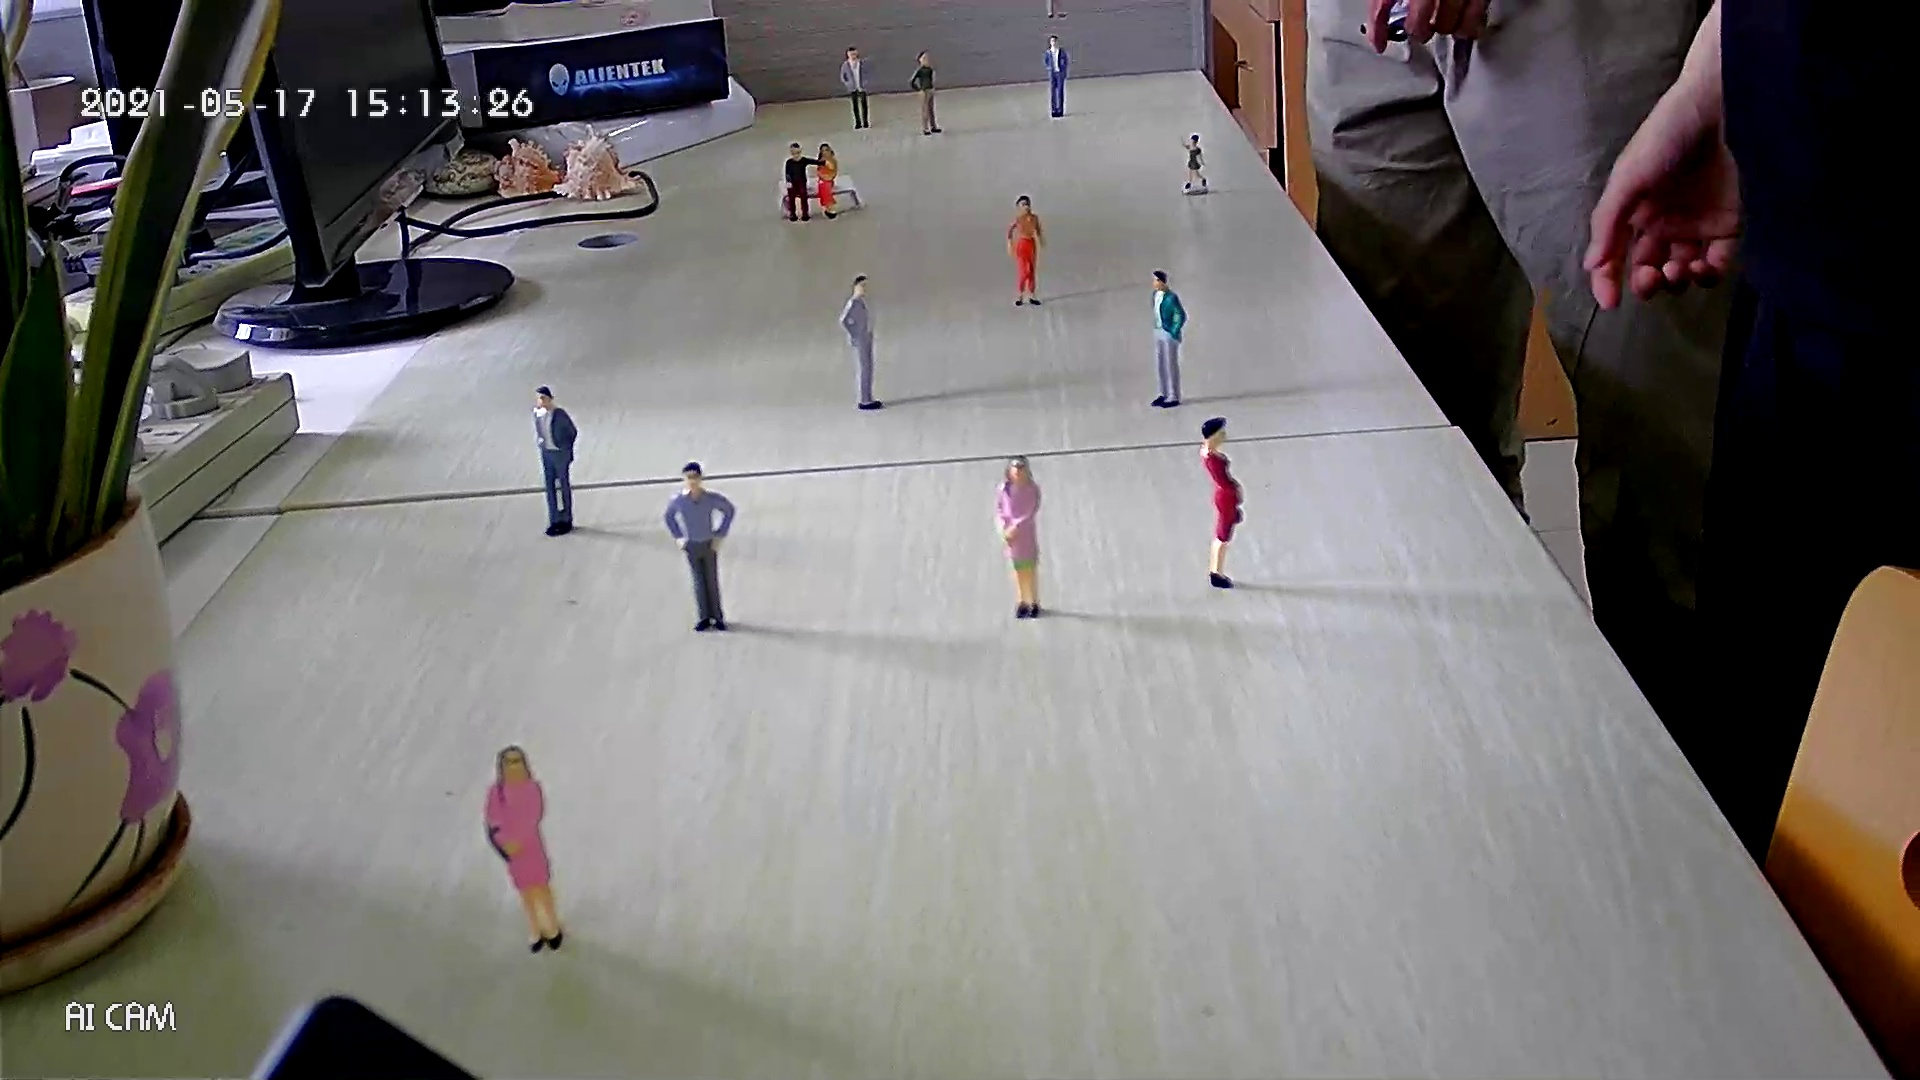person: (482, 745, 564, 954), (662, 461, 737, 633), (993, 453, 1045, 620), (1199, 416, 1245, 589), (531, 385, 578, 538), (839, 273, 884, 412), (1148, 268, 1188, 409), (1005, 194, 1048, 307), (783, 141, 835, 223), (838, 46, 875, 131), (907, 49, 942, 136), (1043, 34, 1070, 118), (1177, 131, 1209, 190), (817, 142, 839, 222)
